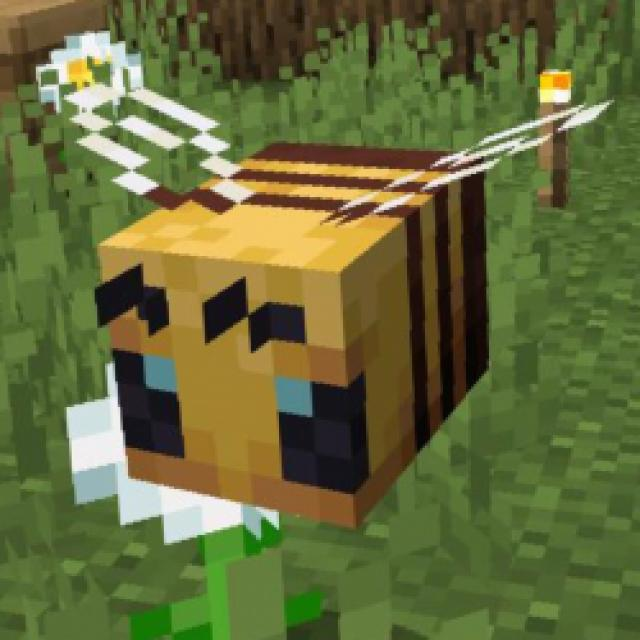Bee: (55, 81, 618, 539)
